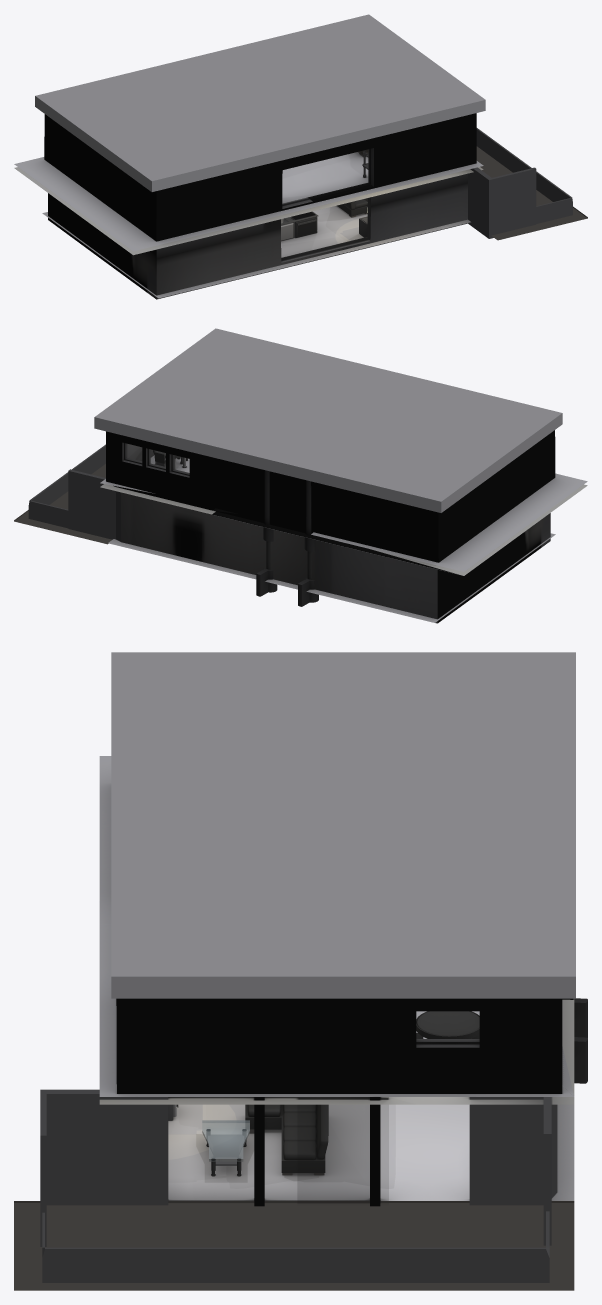
Rendered from residence.glb.
The picture shows the model from 3 angles, top to bottom: view 1: azimuth 30°, elevation 25°; view 2: azimuth 150°, elevation 25°; view 3: azimuth 270°, elevation 25°; orthographic projection. The views are drawn at different scales.
Visible parts, largest first — view 1: Cube036_0, Cube318_0, Cube014_0, Glazing, Cube006_0, Cube016_0, Cube005_0, ^0A6FB32C8DC72FF21F137A84B2B04C22FA8228053090CCF372^pimgpsh0 (×2), ^0A6FB32C8DC72FF21F137A84B2B04C22FA8228053090CCF372^pimgpsh_, Cube003_0, Cube003_1, Cube015_0 (+2 smaller); view 2: Cube036_0, Cube318_0, Cube014_0, Cube006_0, Cube016_0, Cube011_2, ^0A6FB32C8DC72FF21F137A84B2B04C22FA8228053090CCF372^pimgpsh0 (×2), ^0A6FB32C8DC72FF21F137A84B2B04C22FA8228053090CCF372^pimgpsh_, Cube010_0, Cube003_0, Cube017_0, Glazing (+1 smaller); view 3: Cube036_0, ^0A6FB32C8DC72FF21F137A84B2B04C22FA8228053090CCF372^pimgpsh0 (×2), Cube006_0, Cube318_0, Glazing, Cube005_0, Cube003_1, Cube008_0, Balcony_sliding_glass, Cube014_0, Cube016_0, Cylinder005_2 (+3 smaller).
Part boxes in pixels (bbox=[...]): Cube036_0: bbox=[35, 14, 485, 191]; Cube318_0: bbox=[44, 113, 476, 241]; Cube014_0: bbox=[48, 173, 467, 299]; Glazing: bbox=[281, 150, 368, 256]; Cube006_0: bbox=[468, 128, 572, 238]; Cube016_0: bbox=[14, 157, 305, 251]; Cube005_0: bbox=[282, 152, 483, 208]; ^0A6FB32C8DC72FF21F137A84B2B04C22FA8228053090CCF372^pimgpsh0 (×2): bbox=[313, 146, 587, 252]; ^0A6FB32C8DC72FF21F137A84B2B04C22FA8228053090CCF372^pimgpsh_: bbox=[42, 212, 346, 298]; Cube003_0: bbox=[14, 167, 333, 255]; Cube003_1: bbox=[331, 167, 483, 205]; Cube015_0: bbox=[281, 237, 369, 262]; Cube036_0: bbox=[94, 328, 562, 512]; Cube318_0: bbox=[106, 430, 555, 562]; Cube014_0: bbox=[121, 492, 550, 623]; Cube006_0: bbox=[28, 444, 120, 541]; Cube016_0: bbox=[311, 473, 587, 571]; Cube011_2: bbox=[256, 470, 318, 606]; ^0A6FB32C8DC72FF21F137A84B2B04C22FA8228053090CCF372^pimgpsh0 (×2): bbox=[14, 464, 242, 574]; ^0A6FB32C8DC72FF21F137A84B2B04C22FA8228053090CCF372^pimgpsh_: bbox=[239, 533, 555, 622]; Cube010_0: bbox=[212, 511, 460, 575]; Cube003_0: bbox=[372, 484, 587, 575]; Cube017_0: bbox=[122, 442, 189, 477]; Glazing: bbox=[126, 444, 188, 473]; Cube036_0: bbox=[111, 652, 575, 998]; ^0A6FB32C8DC72FF21F137A84B2B04C22FA8228053090CCF372^pimgpsh0 (×2): bbox=[14, 1104, 574, 1290]; Cube006_0: bbox=[40, 1089, 557, 1282]; Cube318_0: bbox=[116, 998, 562, 1093]; Glazing: bbox=[169, 1012, 478, 1203]; Cube005_0: bbox=[99, 924, 574, 1096]; Cube003_1: bbox=[99, 999, 574, 1104]; Cube008_0: bbox=[245, 1104, 328, 1172]; Balcony_sliding_glass: bbox=[265, 1105, 297, 1199]; Cube014_0: bbox=[254, 1097, 380, 1206]; Cube016_0: bbox=[99, 756, 111, 924]; Cylinder005_2: bbox=[416, 1011, 479, 1038].
Bounding box in the file's own units: 22.37 × 6.47 × 12.89.
Materials: 57 (49 with a texture image).
